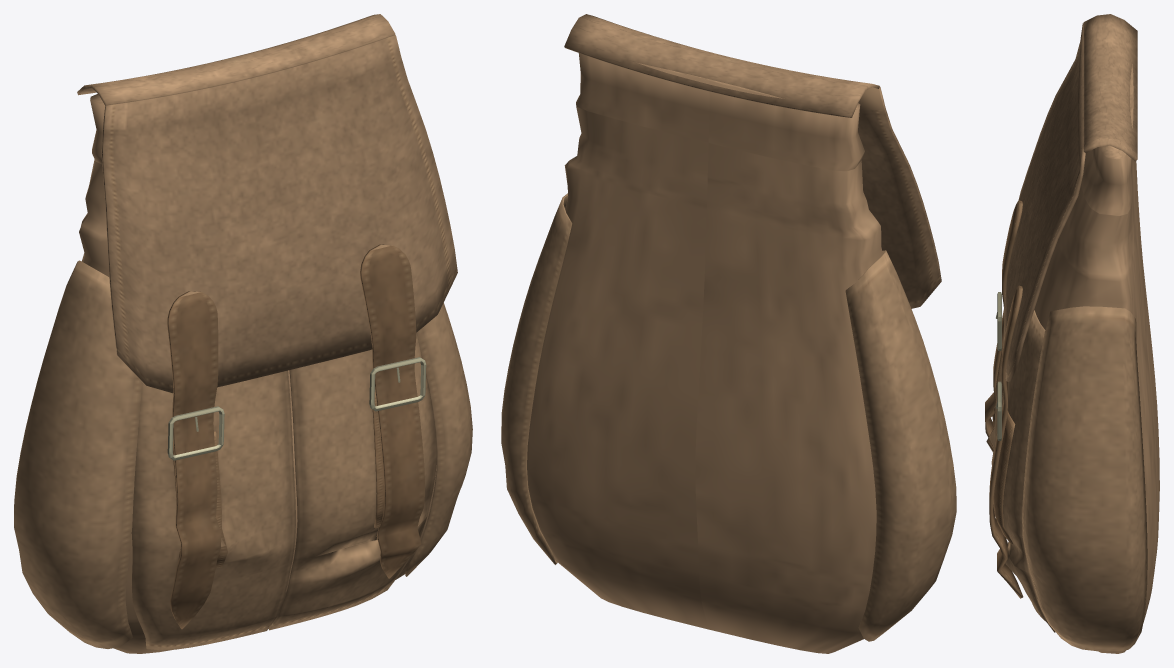
The model's file is MillooTanLeather.glb.
3 views of the same model, side by side, from view 1: azimuth 30°, elevation 25°; view 2: azimuth 150°, elevation 25°; view 3: azimuth 270°, elevation 25° (orthographic). The views are drawn at different scales.
Visible parts, largest first — view 1: Tan leather Game Mesh; view 2: Tan leather Game Mesh; view 3: Tan leather Game Mesh.
Boxes of the visible parts, box(x1,y1,x2,y2) form: Tan leather Game Mesh: box(14, 14, 472, 653); Tan leather Game Mesh: box(501, 14, 956, 653); Tan leather Game Mesh: box(985, 14, 1159, 653).
Size of the model in its own units: 0.9344 by 1.19 by 0.3613.
1 material, 1 textured.
